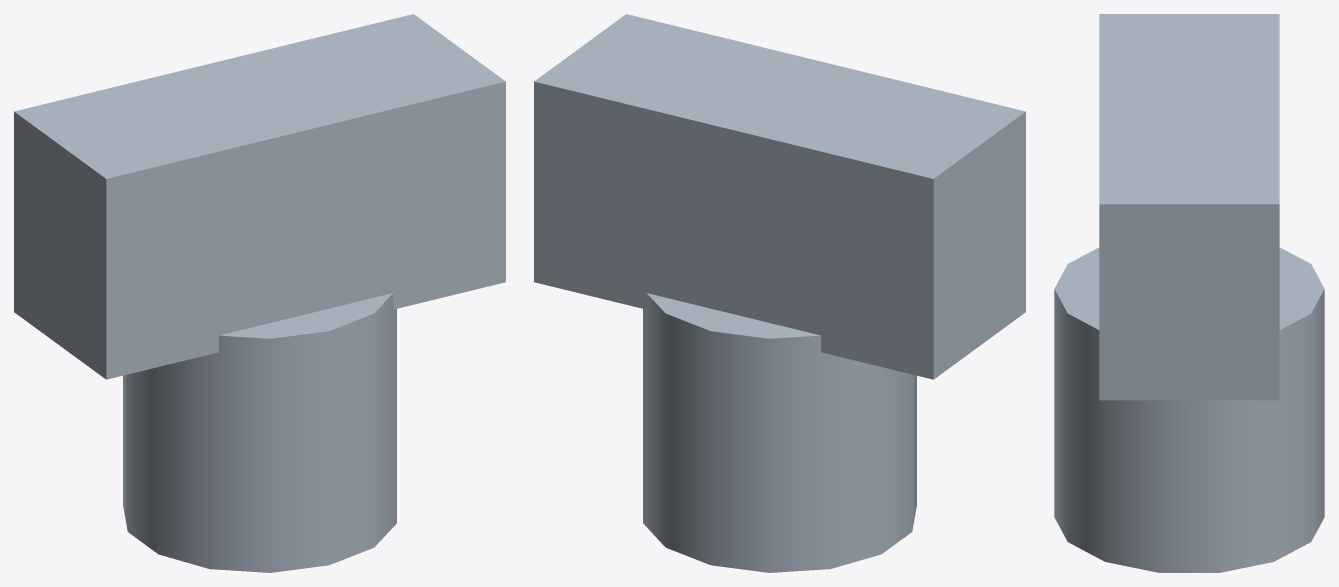
The model's file is fit-end-boot-floor.glb.
The picture shows the model from 3 angles, left to right: view 1: azimuth 30°, elevation 25°; view 2: azimuth 150°, elevation 25°; view 3: azimuth 270°, elevation 25°; orthographic projection. The views are drawn at different scales.
Visible parts, largest first — view 1: hvac-fitting-end-boot-floor; view 2: hvac-fitting-end-boot-floor; view 3: hvac-fitting-end-boot-floor.
Boxes of the visible parts, x1,y1,x2,y2 form: hvac-fitting-end-boot-floor: [14, 14, 505, 572]; hvac-fitting-end-boot-floor: [534, 14, 1025, 572]; hvac-fitting-end-boot-floor: [1054, 14, 1324, 572].
Size of the model in its own units: 0.25 by 0.25 by 0.15.
